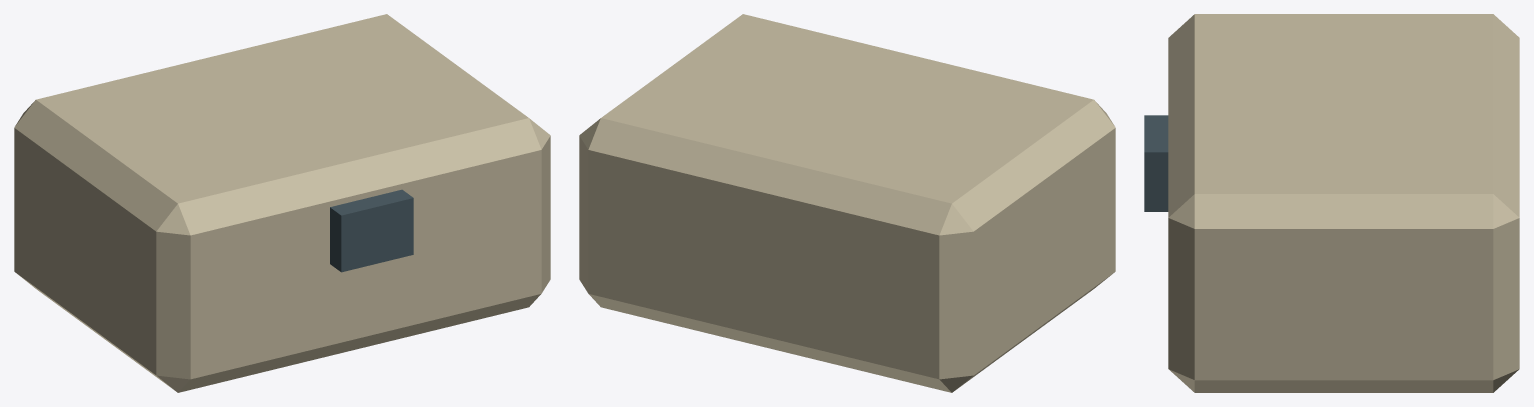
Rendered from set_first_aid_pouch.glb.
The picture shows the model from 3 angles, left to right: view 1: azimuth 30°, elevation 25°; view 2: azimuth 150°, elevation 25°; view 3: azimuth 270°, elevation 25°; orthographic projection. The views are drawn at different scales.
Visible parts, largest first — view 1: set_first_aid_pouch; view 2: set_first_aid_pouch; view 3: set_first_aid_pouch.
Boxes of the visible parts, x1=… form: set_first_aid_pouch: x1=14, y1=14, x2=550, y2=392; set_first_aid_pouch: x1=579, y1=14, x2=1115, y2=392; set_first_aid_pouch: x1=1144, y1=14, x2=1519, y2=392.
Size of the model in its own units: 0.218 by 0.1 by 0.171.
